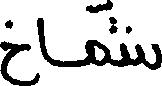X: (121, 21, 161, 74), (0, 15, 29, 85), (88, 0, 108, 70), (37, 13, 48, 85)
